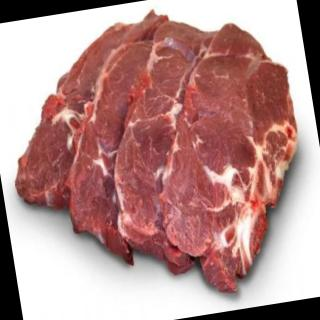Daging Sapi: (1, 1, 320, 319), (141, 20, 320, 295)
